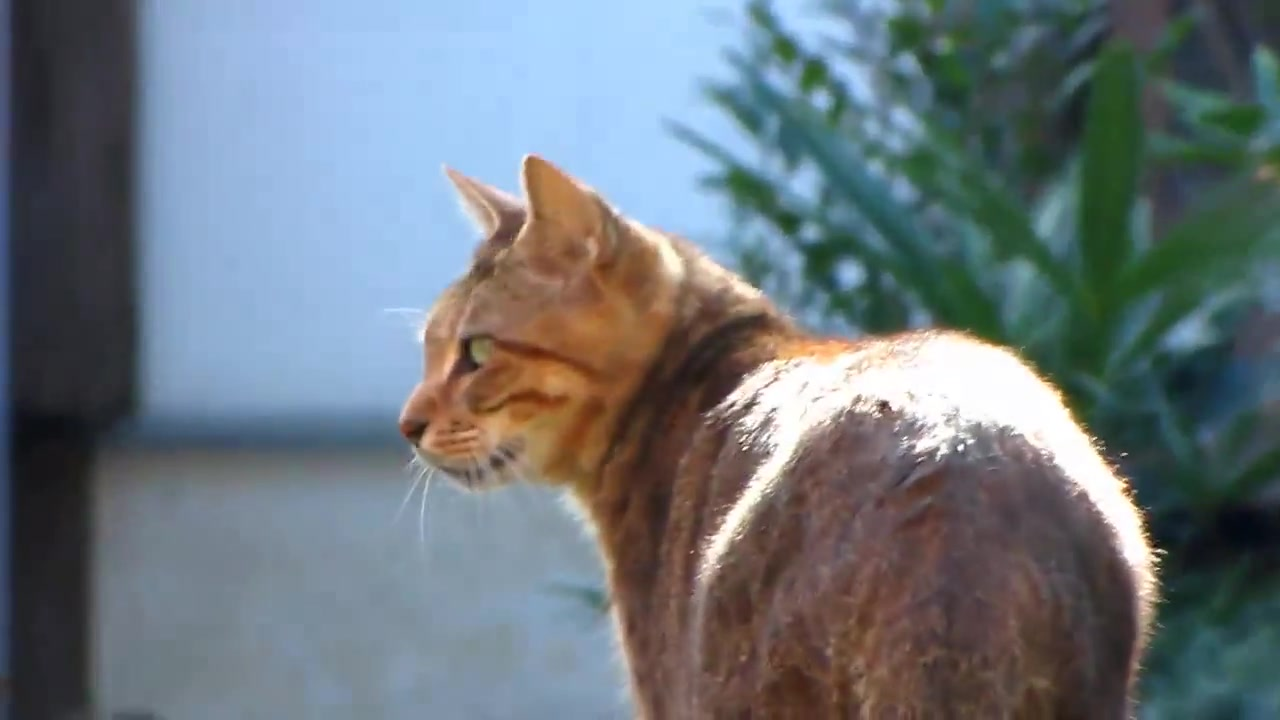cat: (395, 151, 1163, 719)
